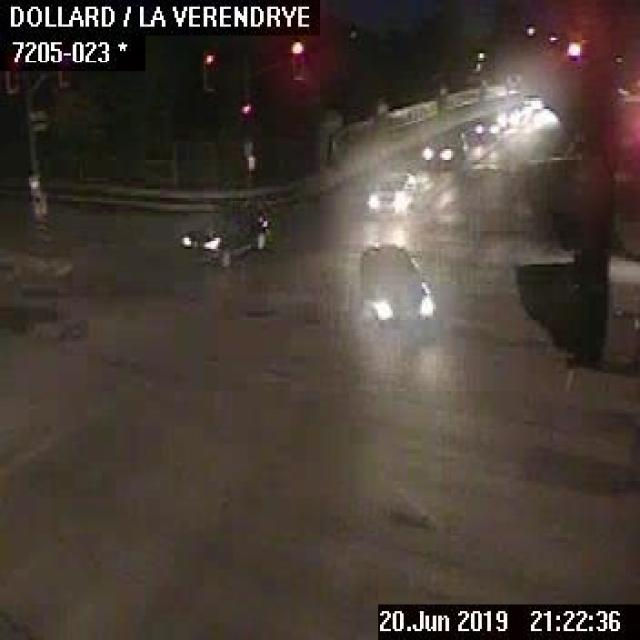vehicle: (356, 240, 434, 329), (178, 200, 276, 269), (366, 169, 418, 213), (420, 129, 467, 167), (475, 114, 509, 142)
